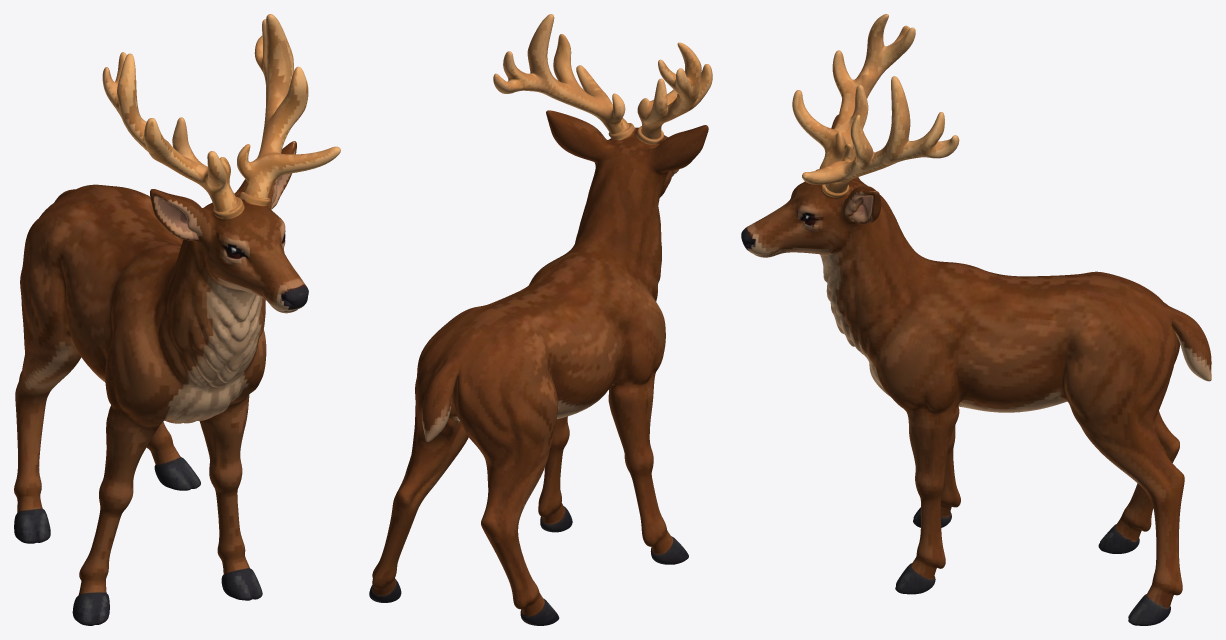
File: deer.glb
3 views of the same model, side by side, from view 1: azimuth 30°, elevation 25°; view 2: azimuth 150°, elevation 25°; view 3: azimuth 270°, elevation 25° (orthographic). The views are drawn at different scales.
Parts seen in each view (by area): view 1: Mesh_0; view 2: Mesh_0; view 3: Mesh_0.
Boxes of the visible parts, x1,y1,x2,y2 form: Mesh_0: (14,14,340,625); Mesh_0: (369,14,712,625); Mesh_0: (741,14,1211,625).
Bounding box in the file's own units: 0.8245 × 1.9 × 1.56.
1 material, 1 textured.
